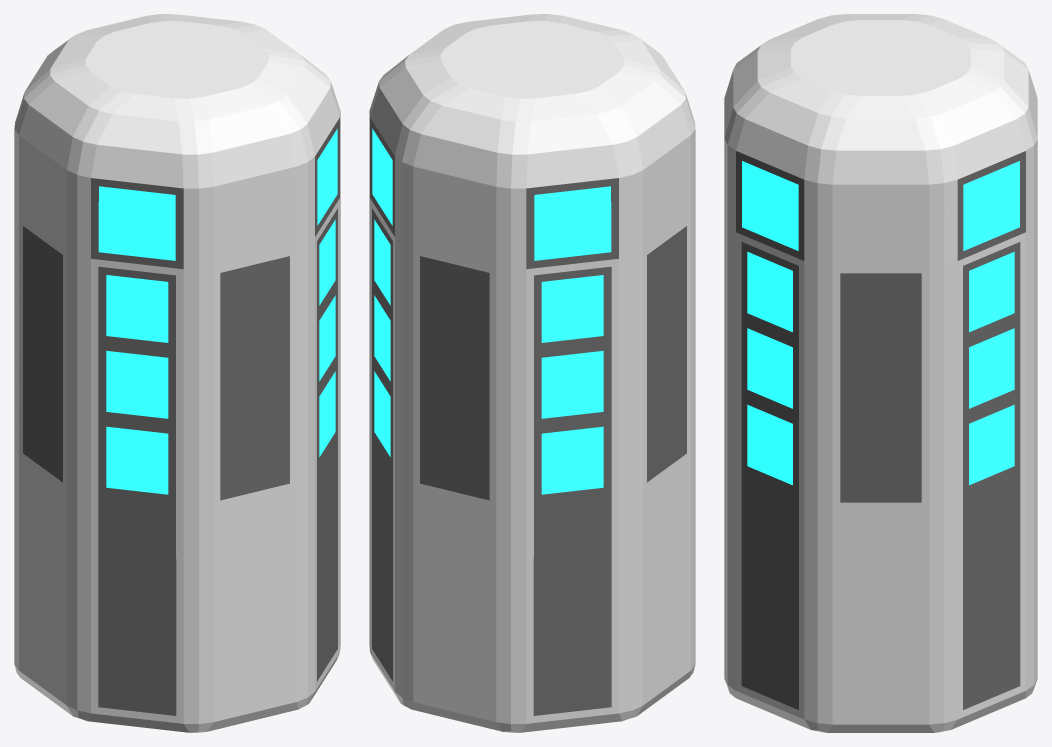
File: Supply_Pod.fbx
The picture shows the model from 3 angles, left to right: view 1: azimuth 30°, elevation 25°; view 2: azimuth 150°, elevation 25°; view 3: azimuth 270°, elevation 25°; orthographic projection.
Visible parts, largest first — view 1: Cylinder, Leg 2, Door 3 High, Door 3 Low, Door 2 Low, Door 2 High, Leg 1; view 2: Cylinder, Leg, Door 1 High, Door 1 Low, Door 2 Low, Door 2 High, Leg 4; view 3: Cylinder, Leg 4, Leg 1, Door 4 Low, Door 4 High.
Boxes of the visible parts, box(x1,y1,x2,y2) form: Cylinder: box(14, 14, 340, 732); Leg 2: box(98, 494, 176, 715); Door 3 High: box(220, 256, 289, 386); Door 3 Low: box(220, 370, 289, 500); Door 2 Low: box(23, 340, 62, 482); Door 2 High: box(23, 226, 62, 368); Leg 1: box(317, 436, 337, 681); Cylinder: box(369, 14, 695, 732); Leg: box(533, 494, 611, 715); Door 1 High: box(420, 256, 489, 386); Door 1 Low: box(420, 370, 489, 500); Door 2 Low: box(647, 340, 686, 482); Door 2 High: box(647, 226, 686, 368); Leg 4: box(372, 436, 392, 681); Cylinder: box(724, 14, 1037, 732); Leg 4: box(963, 471, 1020, 709); Leg 1: box(741, 471, 798, 709); Door 4 Low: box(840, 388, 921, 502); Door 4 High: box(840, 273, 921, 387).
Bounding box in the file's own units: 120 × 260 × 120.
